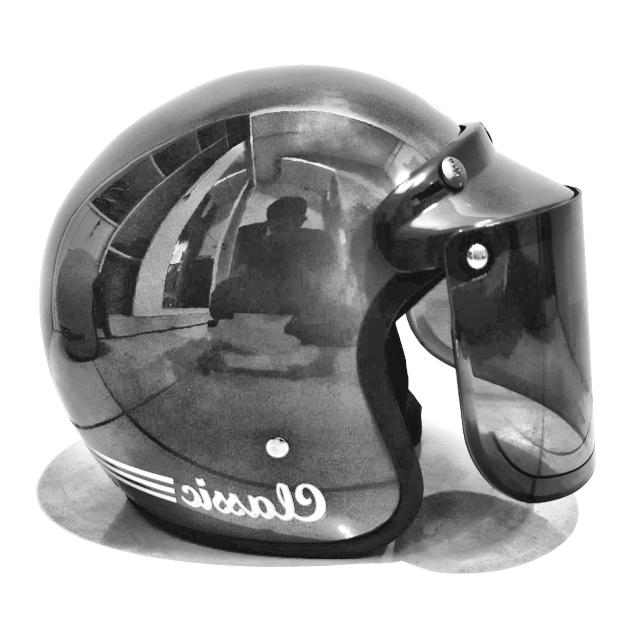Helmet: (32, 53, 594, 580)
